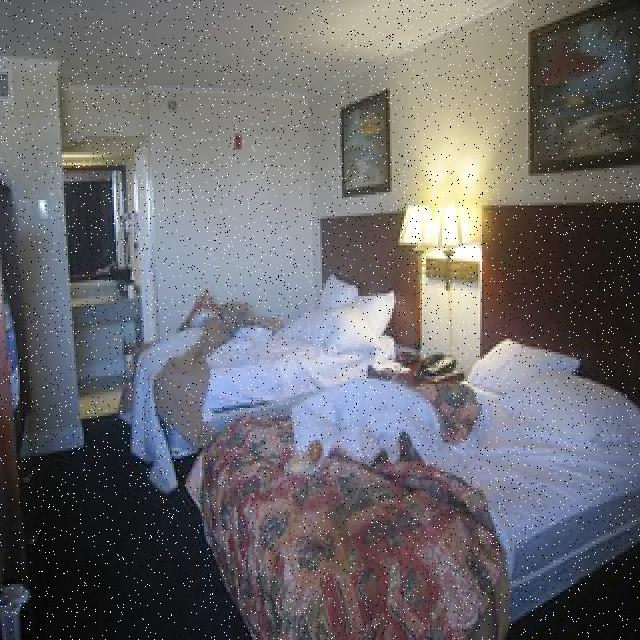bed: (230, 292, 632, 631), (134, 239, 415, 419)
